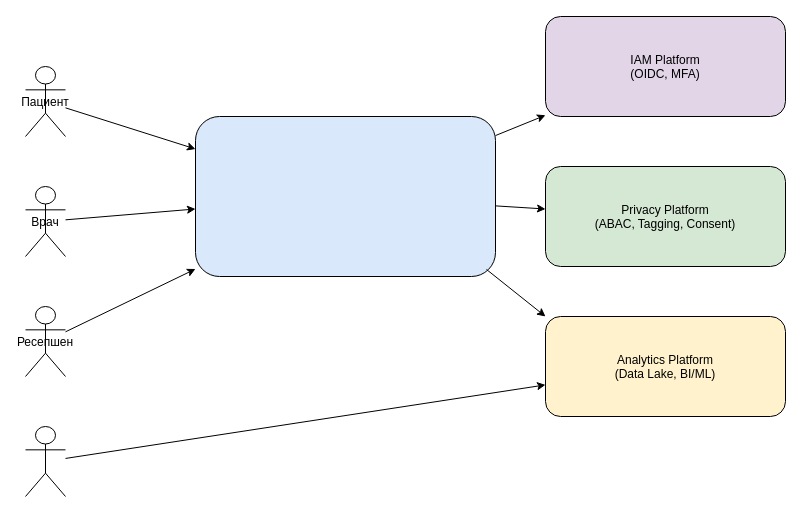
Image size: 802x513. Some labels were removed from this diagram. The shapes that lost their labels are listed below. From the top down, each one's centre as x and y in pixels, then its label:
At (345,196): "Medicamente Digital Platform (CRM, Booking, EHR, Billing)".
At (45,461): "Аналитик".
